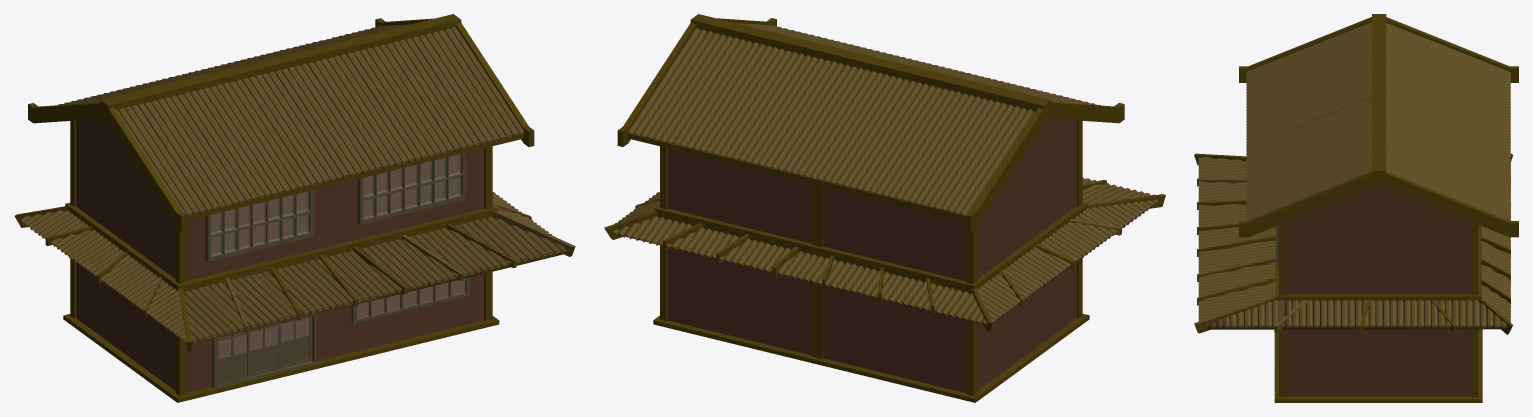
Rendered from casa 3.fbx.
The picture shows the model from 3 angles, left to right: view 1: azimuth 30°, elevation 25°; view 2: azimuth 150°, elevation 25°; view 3: azimuth 270°, elevation 25°; orthographic projection. The views are drawn at different scales.
Visible parts, largest first — view 1: polySurface322; view 2: polySurface322; view 3: polySurface322.
Part boxes in pixels (x1,y1,x2,y2): polySurface322: (14, 14, 575, 402); polySurface322: (604, 14, 1165, 402); polySurface322: (1194, 14, 1518, 402).
Size of the model in its own units: 107 by 68.74 by 84.71.
